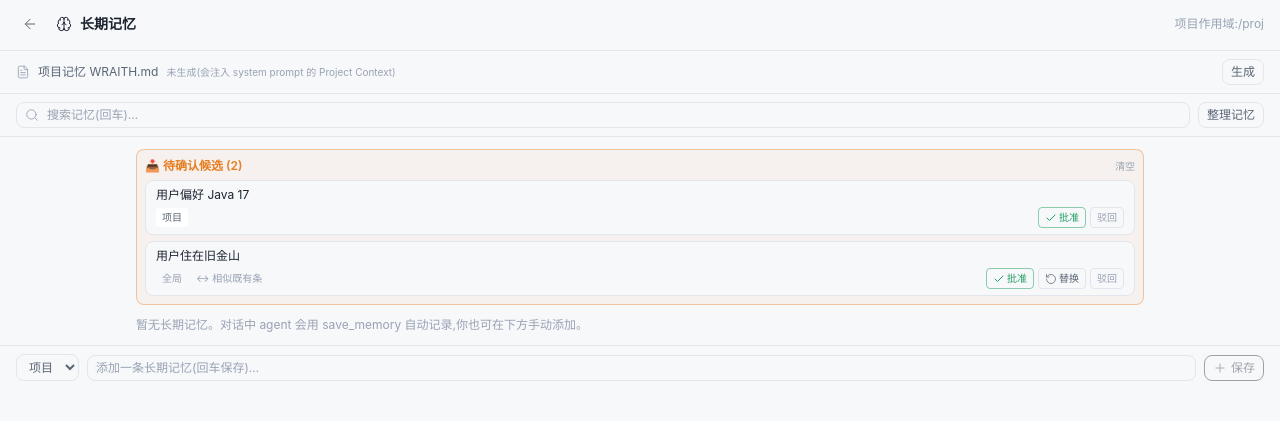
Test: MemoryPanel 待确认区 › 批准返回 ok:false → 显示失败提示,不静默
Click the button with test id "pending-approve-cand-1" at [1062, 218], box [1038,207,1086,228]
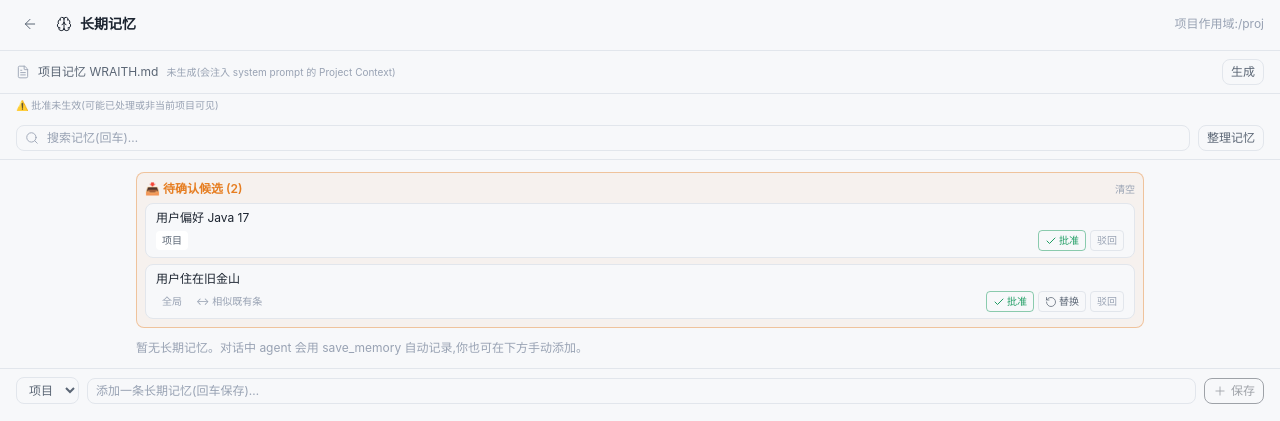
Expected: the text "⚠️ 批准未生效(可能已处理或非当前项目可见)" is shown, [16,99,219,111]
